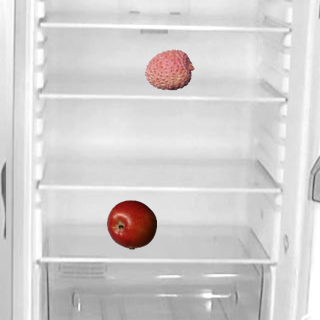Apple Braeburn: (106, 199, 156, 249)
Lychee: (144, 44, 194, 94)
